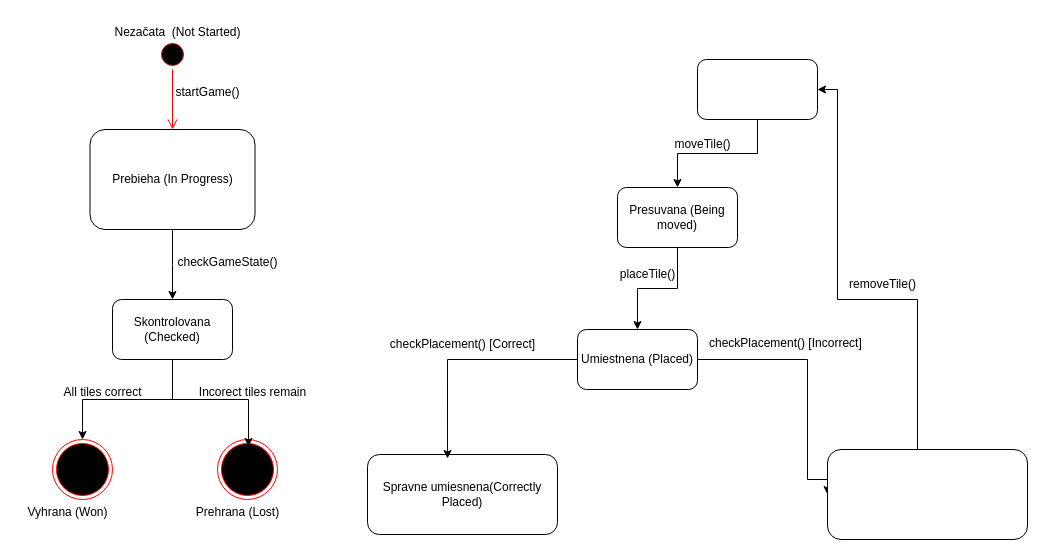
Image size: 1045x557. Some labels were removed from this diagram. Each missing label, with the centre of its shape:
Nespravne umiesnena(Incorrectly Placed): pixel 927 494
Neumiestnena (Unplaced): pixel 757 89
